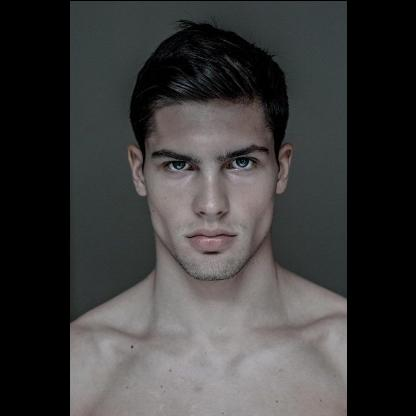Male: (126, 98, 294, 280)
